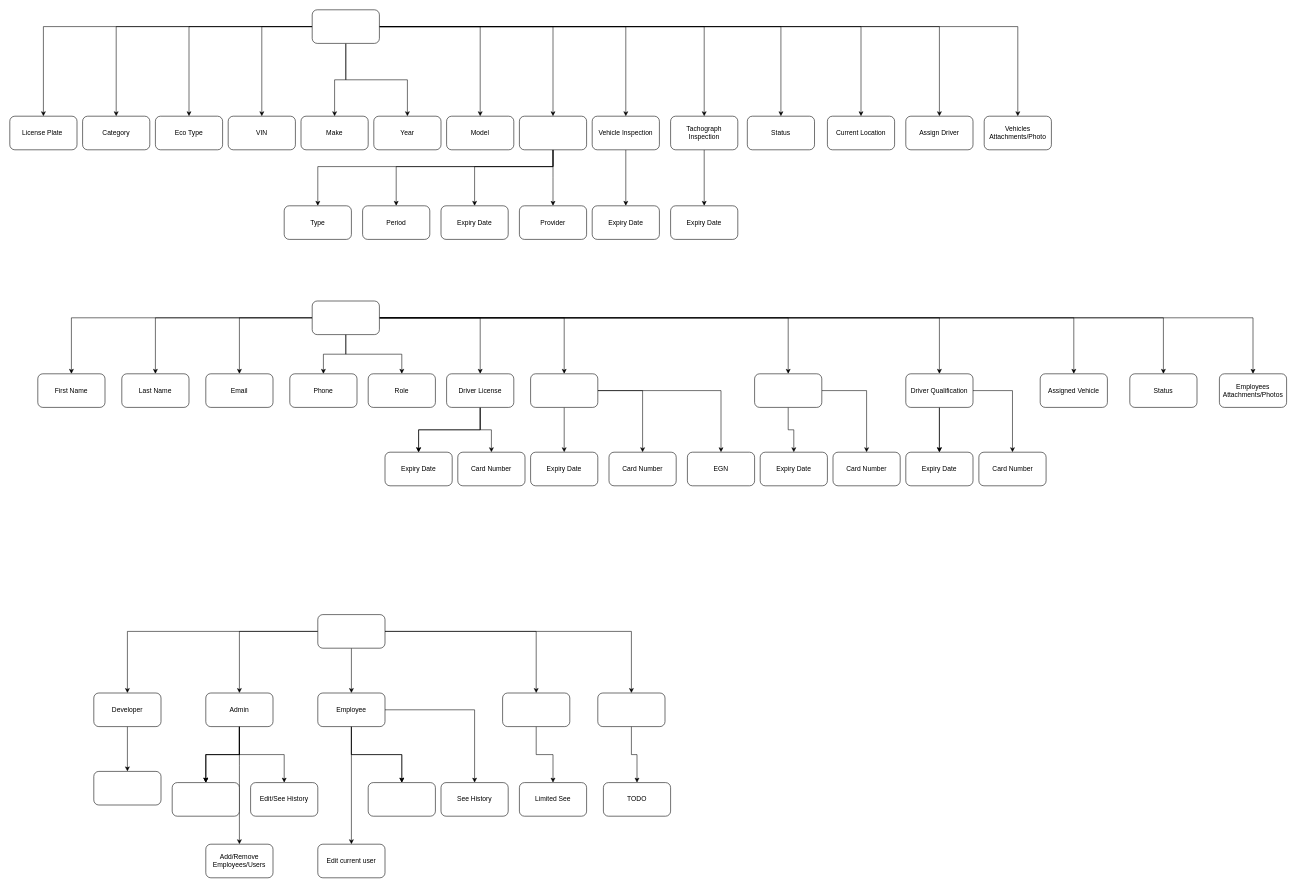
Some shapes in this 1296 by 888 pixel diagram are drawn without their labels. The shapes that lost their labels are listed below. From the top down, each one's centre as x and y in pixels, then its label:
At [345,26]: "Vehicles".
At [553,133]: "Insurance".
At [345,317]: "Employees".
At [564,390]: "Driver Identification".
At [788,390]: "Driver Tachograph card".
At [351,631]: "Users".
At [536,709]: "Guest".
At [631,709]: "Truck Driver".
At [127,788]: "All access to all projects".
At [205,799]: "CRUD operations".
At [401,799]: "Limited CRUD operations".
